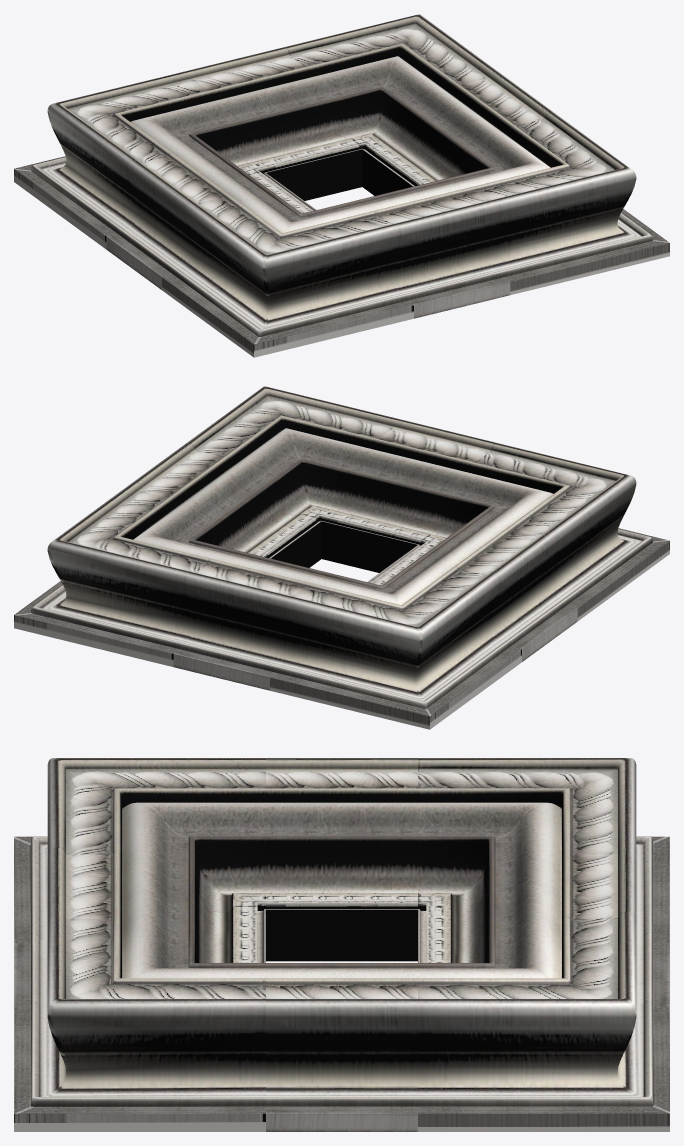
Rendered from website4-silver.FBX.
3 views of the same model, one above another, from view 1: azimuth 30°, elevation 25°; view 2: azimuth 150°, elevation 25°; view 3: azimuth 270°, elevation 25° (orthographic). The views are drawn at different scales.
Visible parts, largest first — view 1: website5silver_bottom_L_Corner, website5silver_bottom_R_Corner, website5silver_top_L_Corner, website5silver_top, website5silver_top_R_Corner, website5silver_bottom, website5silver_R, website5silver_L; view 2: website5silver_top_L_Corner, website5silver_top_R_Corner, website5silver_bottom_L_Corner, website5silver_bottom, website5silver_bottom_R_Corner, website5silver_top, website5silver_R, website5silver_L; view 3: website5silver_top_R_Corner, website5silver_bottom_R_Corner, website5silver_L, website5silver_bottom_L_Corner, website5silver_top_L_Corner, website5silver_R, website5silver_top, website5silver_bottom.
Boxes of the visible parts, x1,y1,x2,y2 form: website5silver_bottom_L_Corner: [162, 192, 413, 357]; website5silver_bottom_R_Corner: [445, 111, 669, 294]; website5silver_top_L_Corner: [14, 70, 265, 248]; website5silver_top: [189, 47, 362, 200]; website5silver_top_R_Corner: [285, 14, 497, 151]; website5silver_bottom: [348, 179, 510, 318]; website5silver_R: [362, 71, 552, 195]; website5silver_L: [106, 151, 316, 289]; website5silver_top_L_Corner: [270, 564, 521, 729]; website5silver_top_R_Corner: [14, 483, 238, 666]; website5silver_bottom_L_Corner: [418, 442, 669, 620]; website5silver_bottom: [321, 419, 494, 572]; website5silver_bottom_R_Corner: [186, 386, 398, 523]; website5silver_top: [173, 551, 335, 690]; website5silver_R: [131, 443, 321, 567]; website5silver_L: [367, 523, 577, 661]; website5silver_top_R_Corner: [418, 911, 669, 1131]; website5silver_bottom_R_Corner: [14, 911, 265, 1131]; website5silver_L: [266, 758, 417, 961]; website5silver_bottom_L_Corner: [14, 758, 265, 942]; website5silver_top_L_Corner: [418, 758, 669, 942]; website5silver_R: [266, 963, 417, 1131]; website5silver_top: [418, 847, 669, 1007]; website5silver_bottom: [14, 847, 265, 1007].
Bounding box in the file's own units: 514 × 514 × 98.47.
2 materials, 2 textured.
